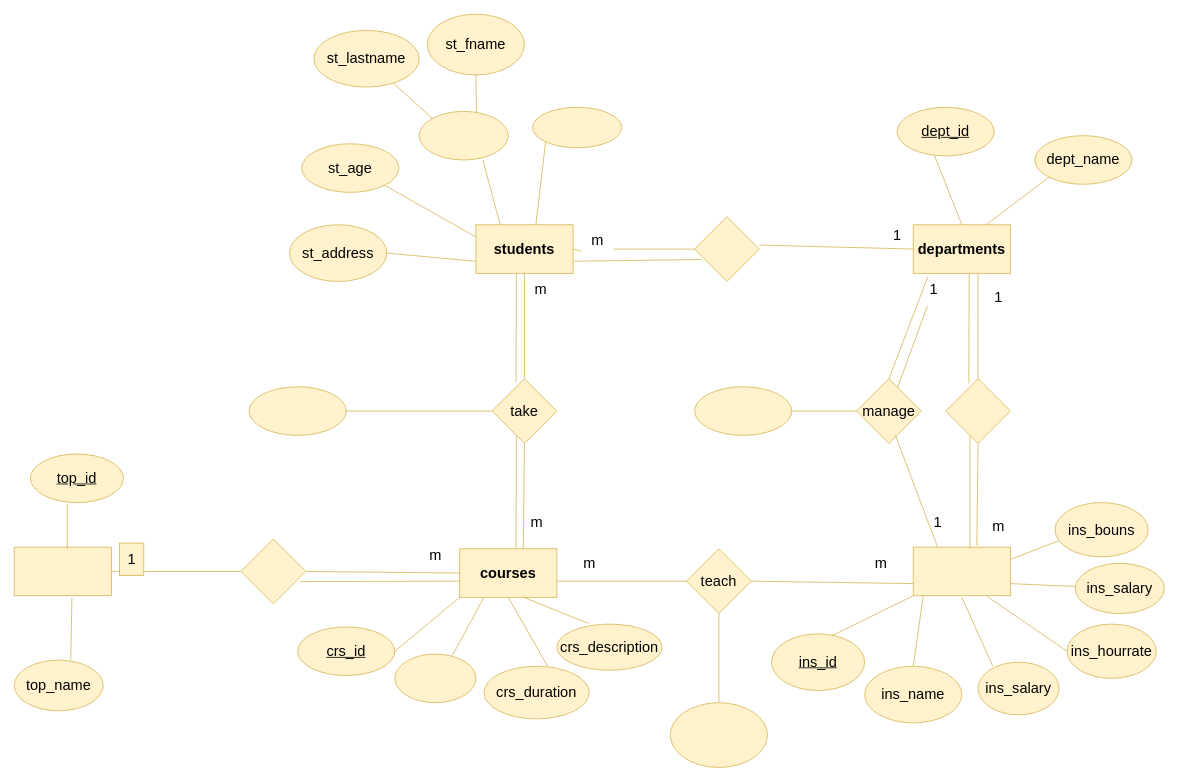
This 1179x784 diagram has some shape labels left out. The centre of each missing label's shape, as x and y in pixels:
"classify" belongs at (273,571).
"contains" belongs at (977,410).
"crs_name" belongs at (435,678).
"evaluation" belongs at (718,734).
"grade" belongs at (297,410).
"hiring Date" belongs at (743,410).
"instructors" belongs at (961,571).
"locate" belongs at (726,248).
"st_id" belongs at (577,127).
"st_name" belongs at (463,135).
"topic" belongs at (62,571).
